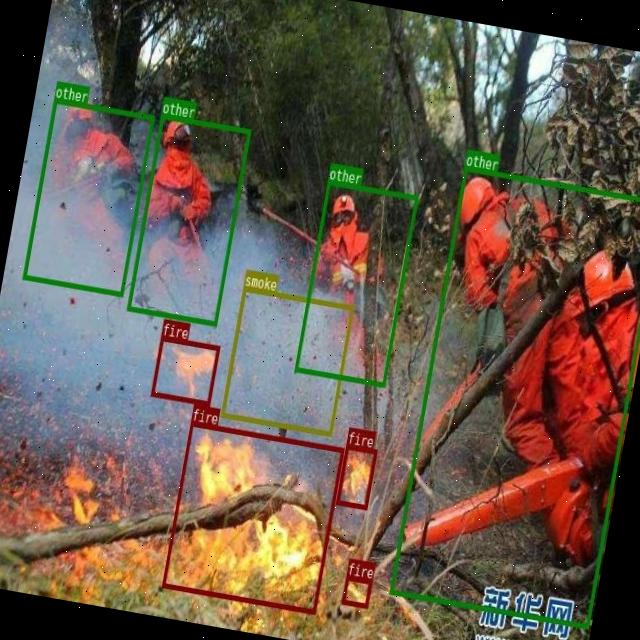fire: (160, 420, 344, 612), (150, 335, 220, 405), (334, 443, 376, 509), (340, 574, 372, 608)
smoke: (220, 286, 353, 436)
